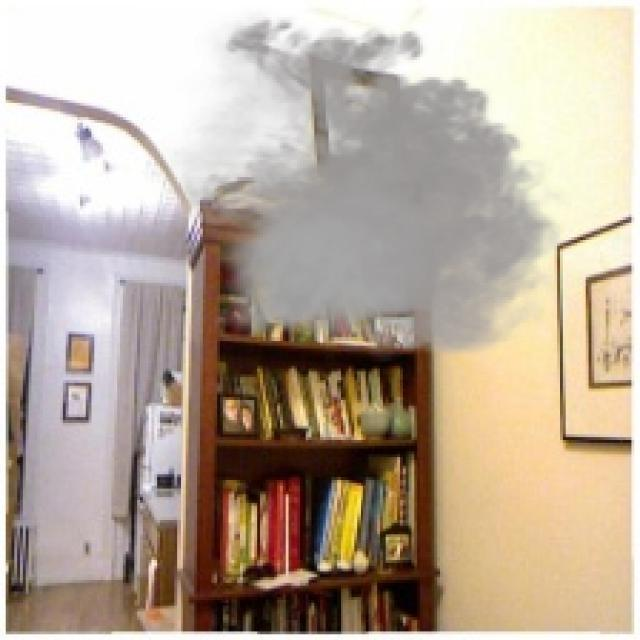Smoke: (157, 6, 577, 368)
